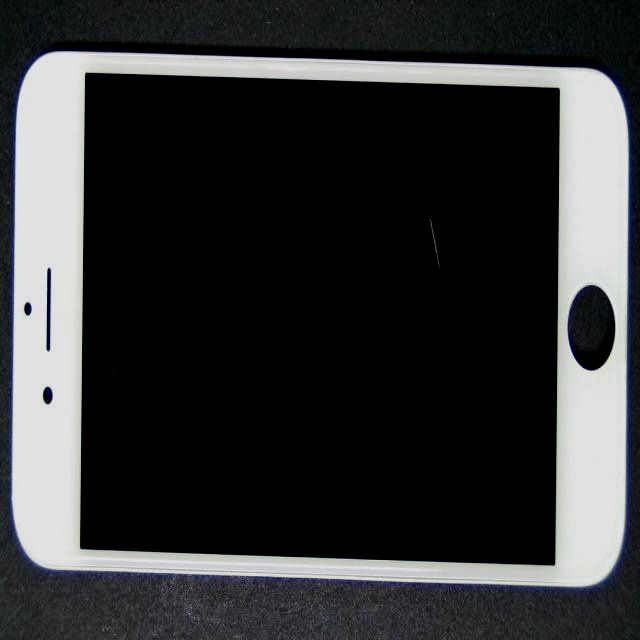scratch: (197, 40, 640, 340)
